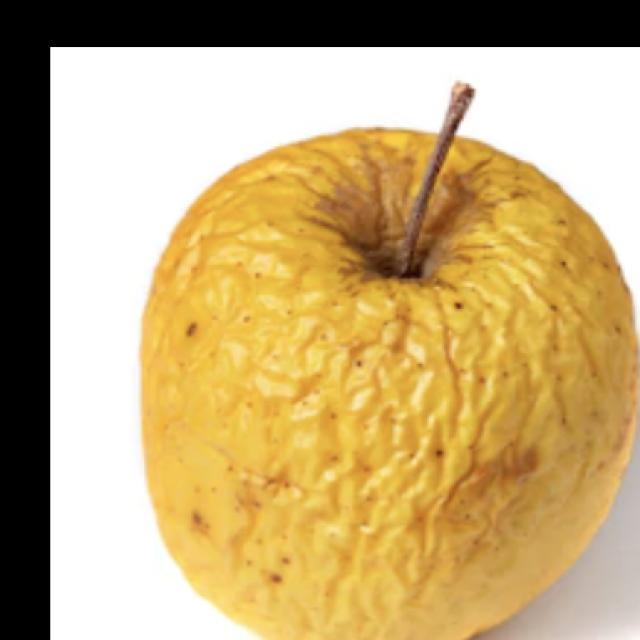Rotten: (143, 125, 640, 640)
